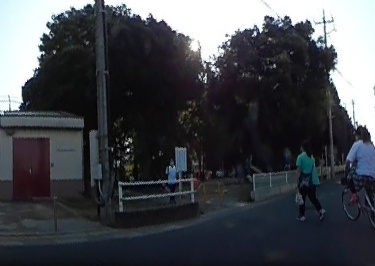person: (294, 138, 326, 223), (347, 124, 375, 214), (166, 156, 179, 202)
